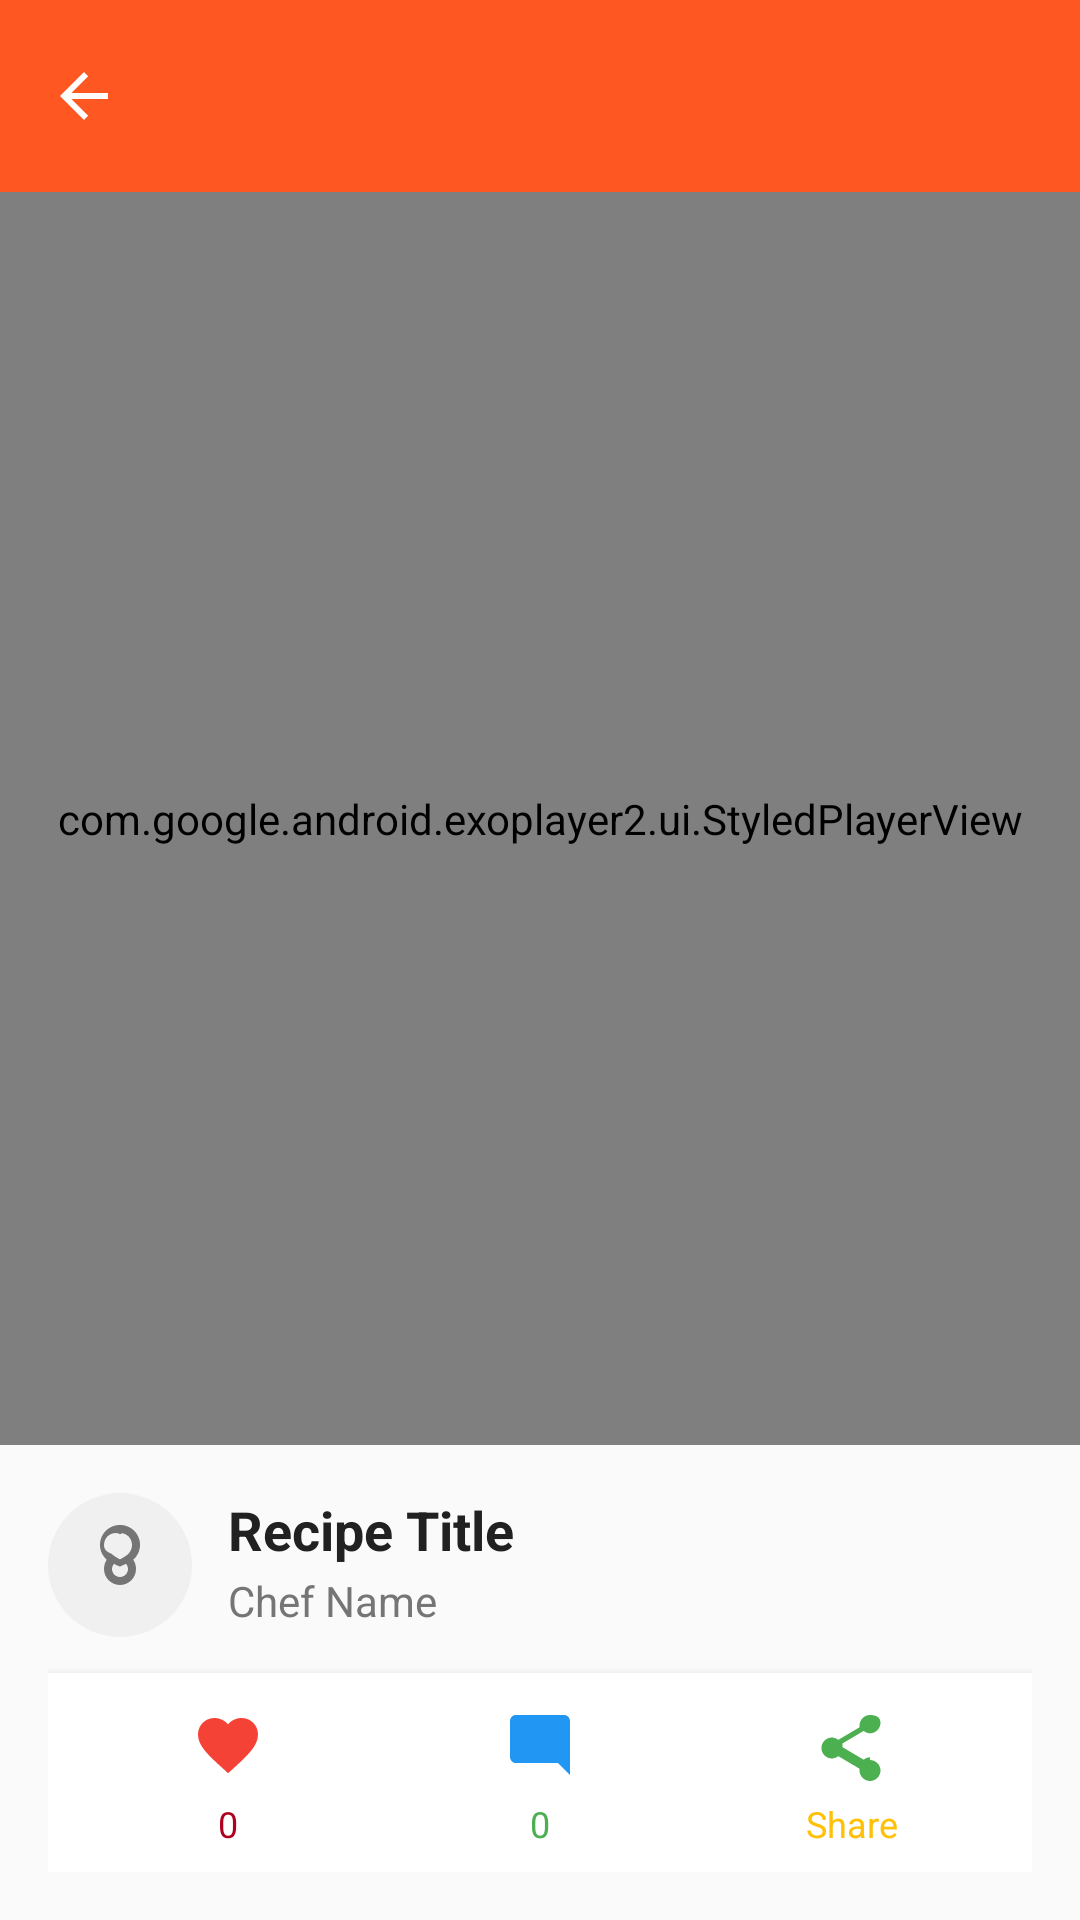

Named icons in this screenshot (1080w x 1920h) and their bounding boxes, Rect(x1, y1, x2, y2):
comment: Rect(510, 1715, 570, 1775)
like: Rect(198, 1718, 258, 1773)
